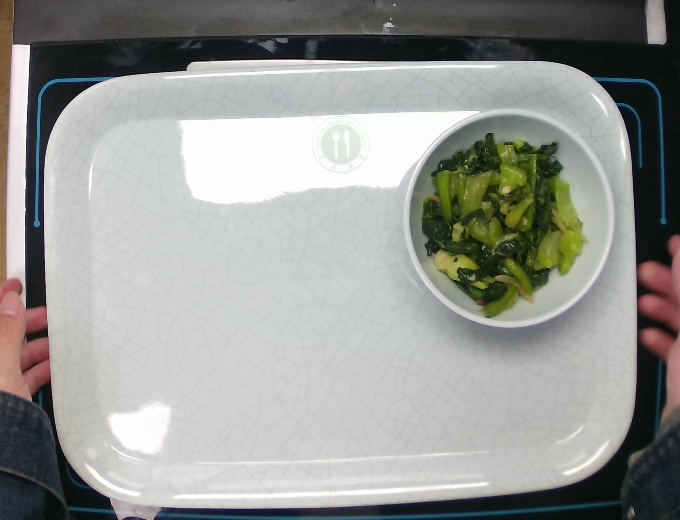JYsf-Fan_Wan: (399, 106, 619, 331)
